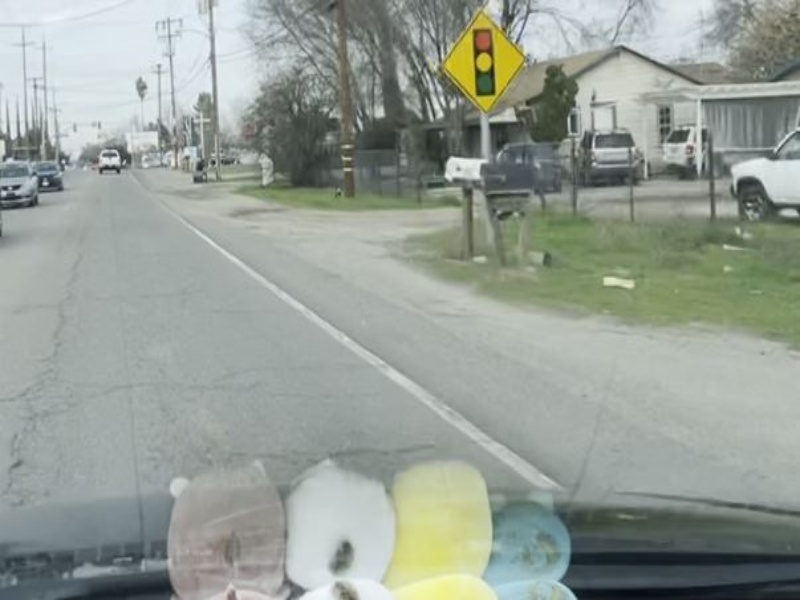traffic signal sign: (437, 7, 534, 115)
